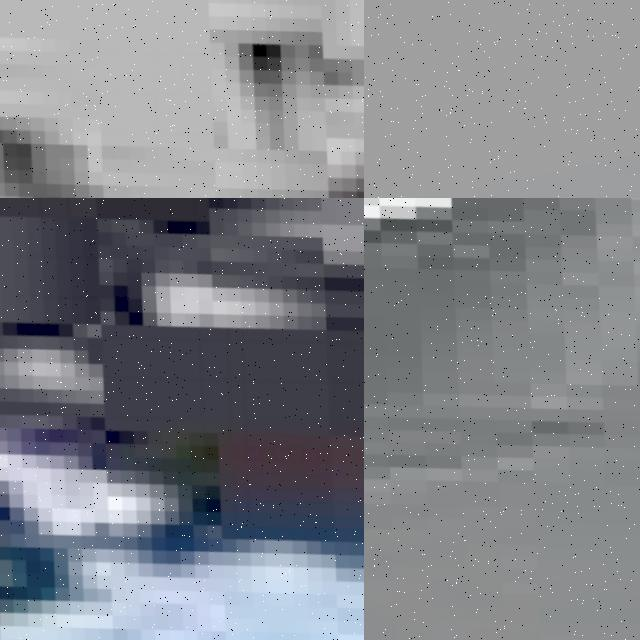drone: (0, 198, 364, 640), (364, 198, 640, 640), (0, 0, 364, 198)
